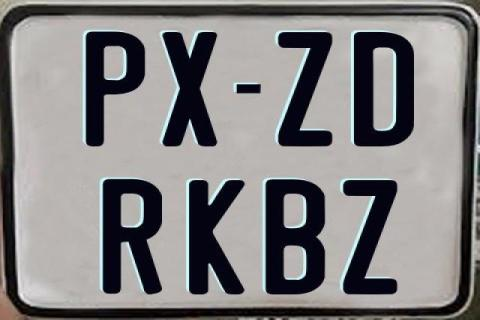B: (264, 177, 328, 297)
D: (351, 30, 417, 150)
K: (189, 179, 246, 295)
P: (84, 32, 147, 152)
R: (100, 179, 164, 295)
X: (163, 30, 221, 146)
Z: (341, 178, 400, 294), (278, 32, 334, 151)
